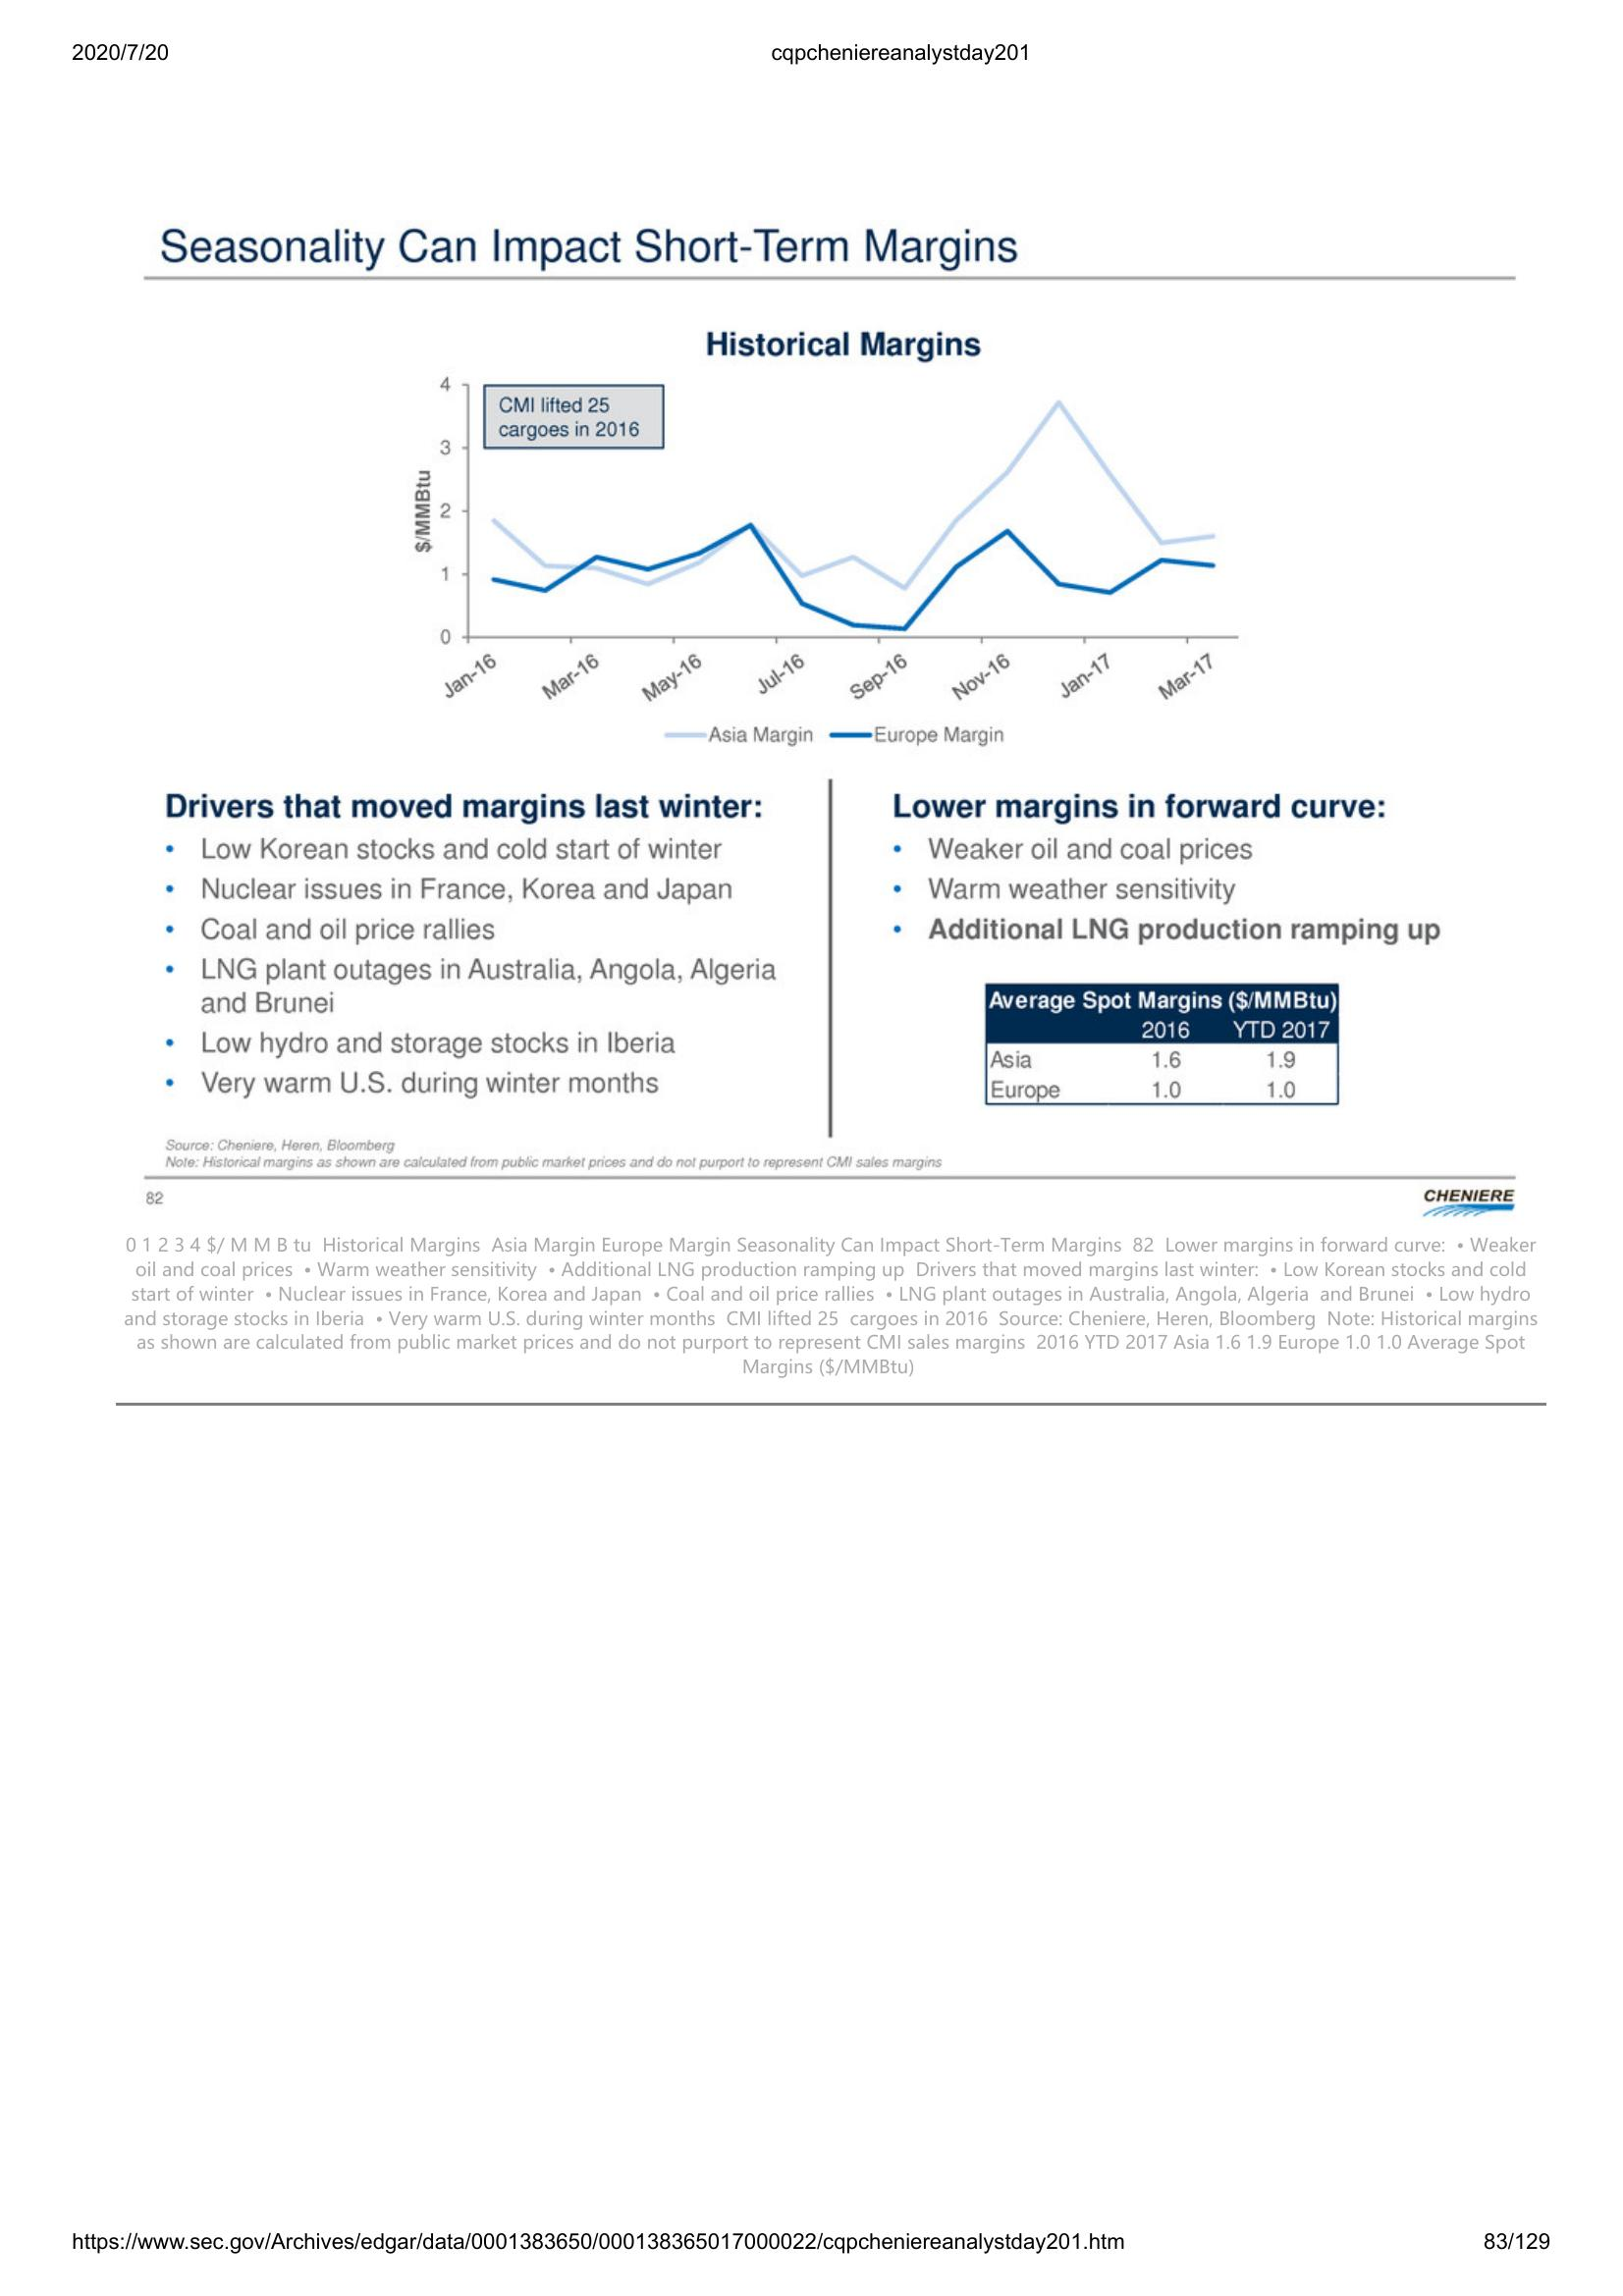table: (977, 972, 1347, 1115)
